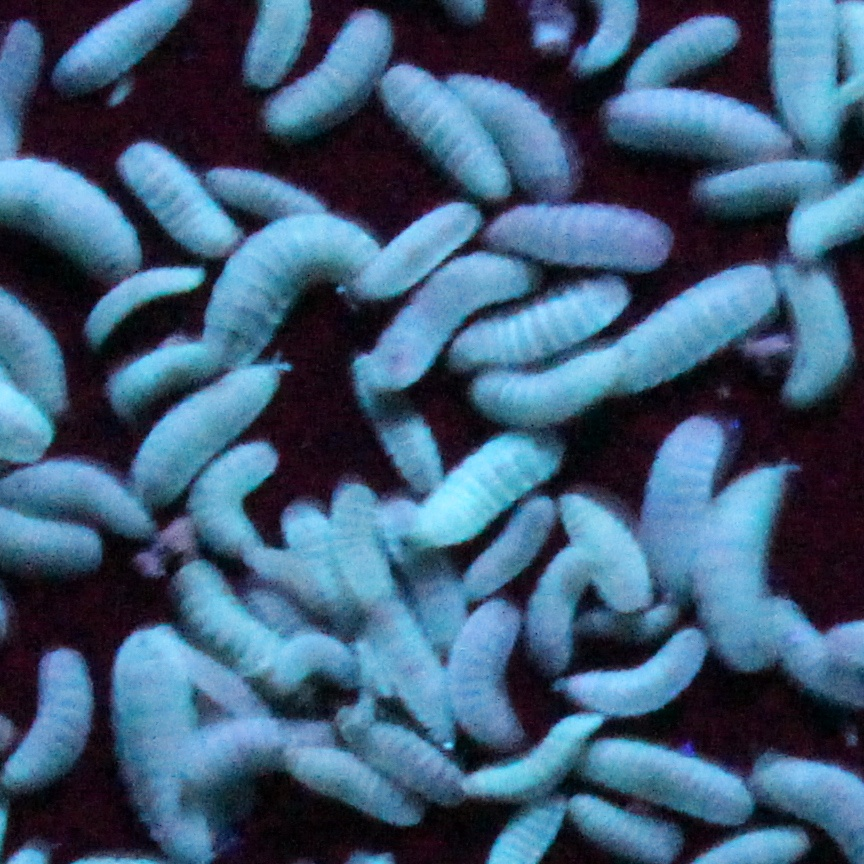larve: (203, 219, 385, 365), (133, 353, 292, 508), (385, 426, 578, 553), (351, 253, 535, 385), (372, 51, 506, 199), (624, 267, 772, 396), (703, 460, 792, 674), (435, 281, 628, 371), (585, 735, 758, 826), (176, 560, 294, 685), (10, 642, 106, 792), (449, 74, 572, 190), (263, 15, 390, 126), (774, 249, 860, 410), (647, 415, 719, 603), (113, 135, 231, 249), (169, 442, 290, 553), (165, 706, 299, 806), (444, 592, 528, 749), (365, 599, 460, 737), (497, 196, 674, 269), (551, 494, 656, 617), (558, 635, 699, 724), (442, 506, 565, 606), (358, 199, 483, 296), (613, 85, 788, 153), (290, 735, 419, 826), (456, 724, 599, 806), (463, 351, 635, 419), (324, 471, 399, 619), (360, 712, 472, 803), (88, 262, 206, 337), (281, 503, 360, 615), (626, 10, 742, 78), (106, 342, 213, 410), (581, 792, 683, 862), (215, 158, 326, 221), (274, 628, 365, 703), (528, 531, 576, 669), (369, 415, 449, 490), (710, 153, 849, 196)
